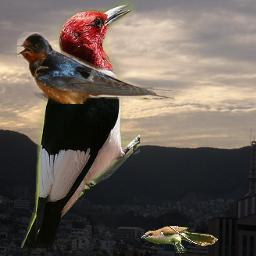Cuckoo: (141, 226, 218, 253)
Swallow: (17, 32, 175, 104)
Woodpecker: (18, 0, 140, 248)
